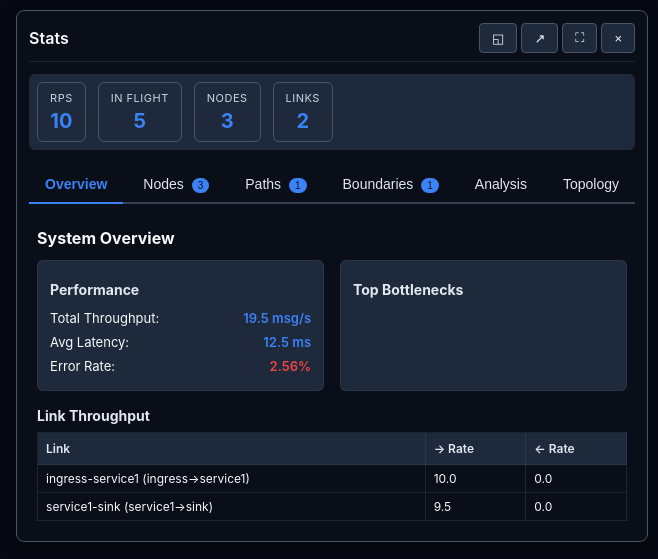
it: StatsOverlayEnhanced with Real Metrics › shows real path metrics without random values
Click the button with class "stats-tab" showing "Paths 1". click: (276, 184)
box: [229,166,323,202]
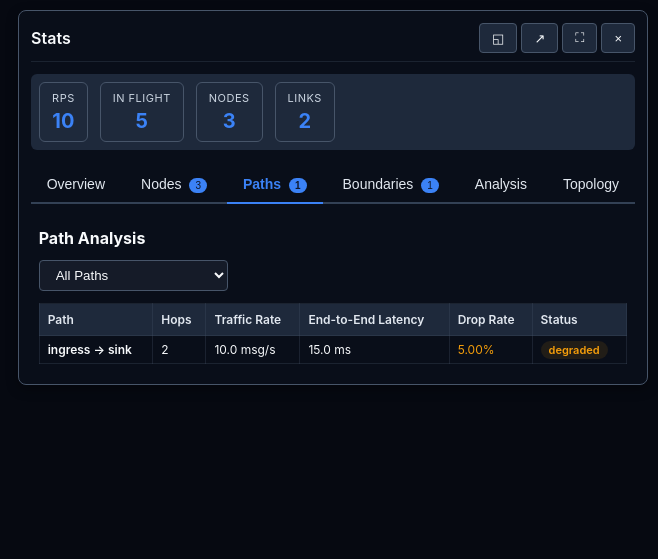
Now the table with class "stats-table" shows "ingress → sink", box [48,342,132,357]
Now the table with class "stats-table" shows "10.0 msg/s", box [214,342,276,357]
Now the row "ingress → sink 2 10.0 msg/s 15.0 ms 5.00% degraded" is shown, box [39,336,626,364]
